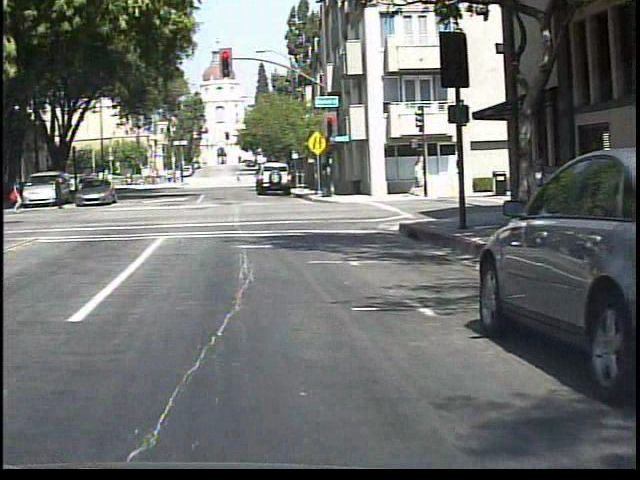person: (6, 175, 25, 215), (48, 170, 65, 212), (229, 170, 243, 187)
